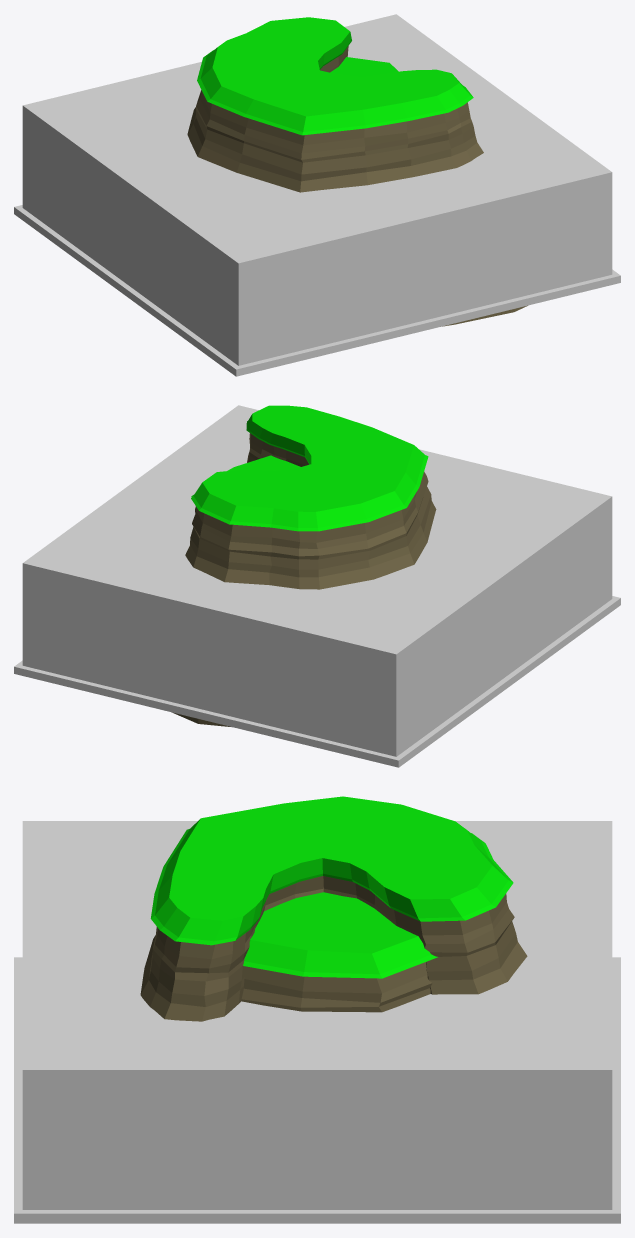
The model's file is ilha.glb.
3 views of the same model, one above another, from view 1: azimuth 30°, elevation 25°; view 2: azimuth 150°, elevation 25°; view 3: azimuth 270°, elevation 25° (orthographic). The views are drawn at different scales.
Visible parts, largest first — view 1: mar, terra, chao, terra02; view 2: mar, terra, chao, terra02; view 3: mar, terra, terra02, chao.
Boxes of the visible parts, x1,y1,x2,y2 form: mar: [22, 14, 612, 365]; terra: [187, 17, 527, 326]; chao: [14, 205, 620, 376]; terra02: [330, 57, 398, 77]; mar: [22, 405, 612, 756]; terra: [172, 405, 436, 726]; chao: [14, 596, 620, 767]; terra02: [191, 455, 300, 513]; mar: [22, 821, 612, 1209]; terra: [140, 796, 527, 1021]; terra02: [241, 892, 437, 1012]; chao: [14, 957, 620, 1223].
Bounding box in the file's own units: 19.85 × 9.67 × 19.85.
